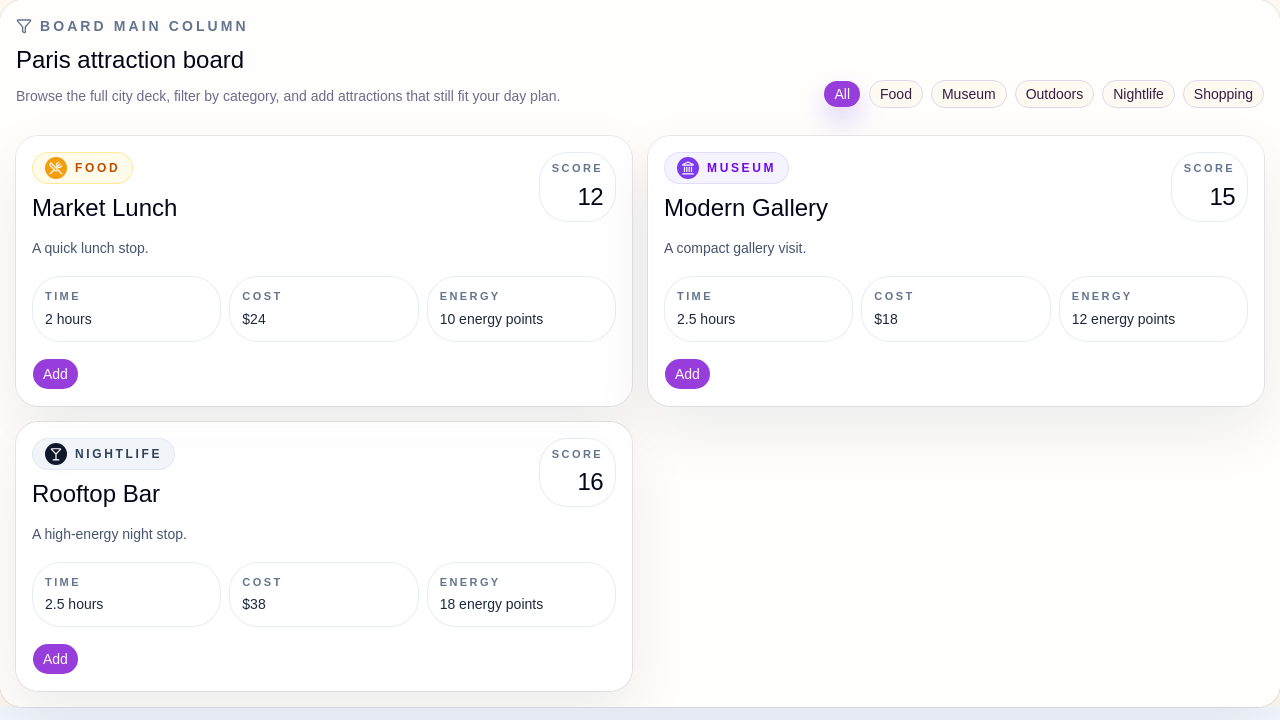
Test: AttractionGrid › shows an empty state when the active filter has no attractions
Click the button "Shopping".
click(1223, 94)  # box [1183,80,1264,108]
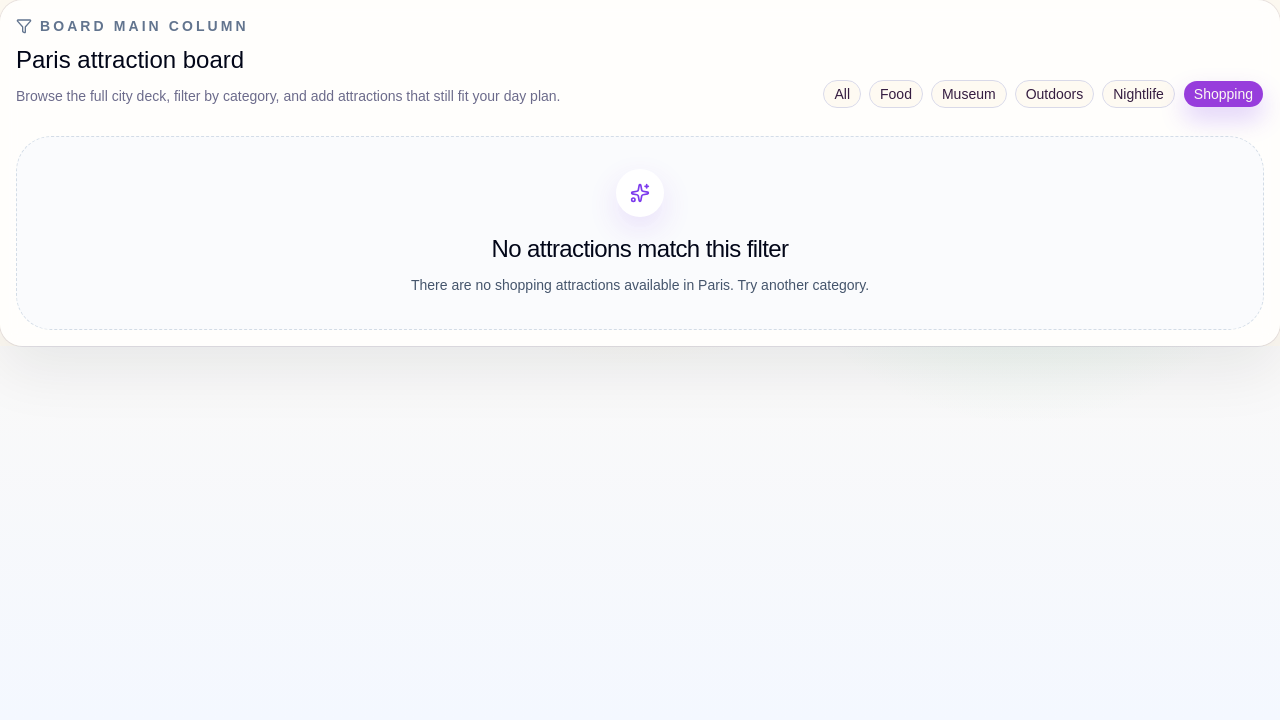
expect the text "No attractions match this filter" is shown: met, box [492,235,788,262]
